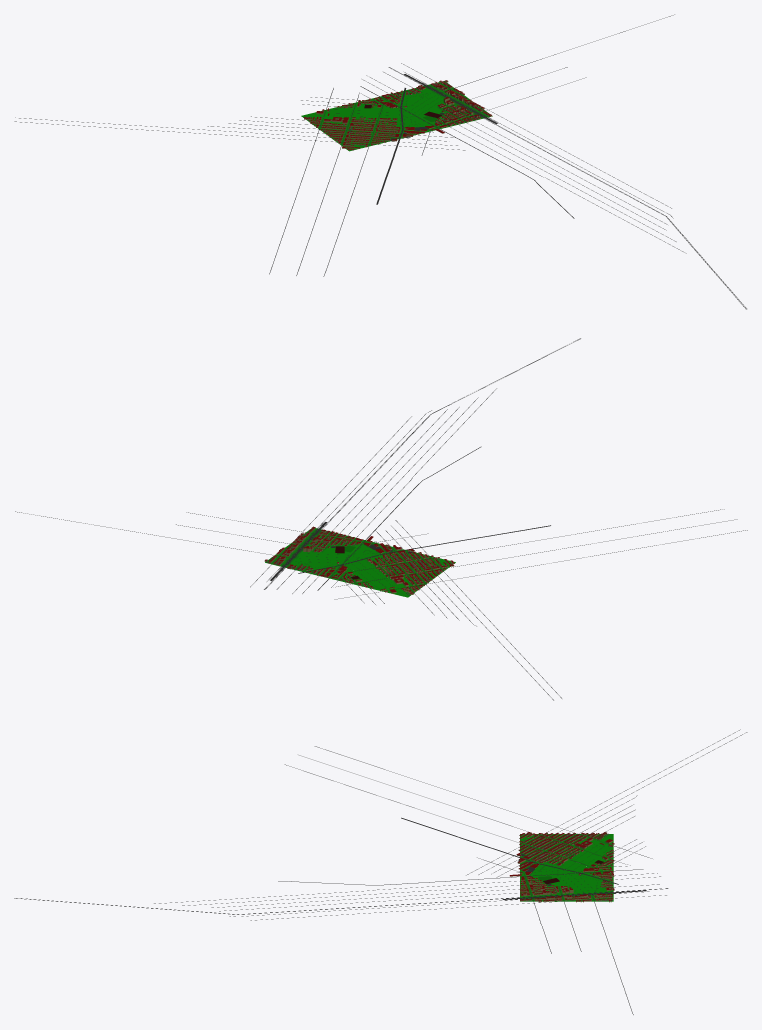
Rendered from newYork.obj.
3 renders of one model, top to bottom at view 1: azimuth 30°, elevation 25°; view 2: azimuth 150°, elevation 25°; view 3: azimuth 270°, elevation 25°, orthographic. The views are drawn at different scales.
Visible parts, largest first — view 1: Road Ocean Parkway; view 2: Road Ocean Parkway; view 3: Road Ocean Parkway.
Boxes of the visible parts, x1,y1,x2,y2 form: Road Ocean Parkway: (388,67,746,309); Road Ocean Parkway: (265,339,580,589); Road Ocean Parkway: (16,888,667,916).
Bounding box in the file's own units: 6066 × 34.5 × 6579.
